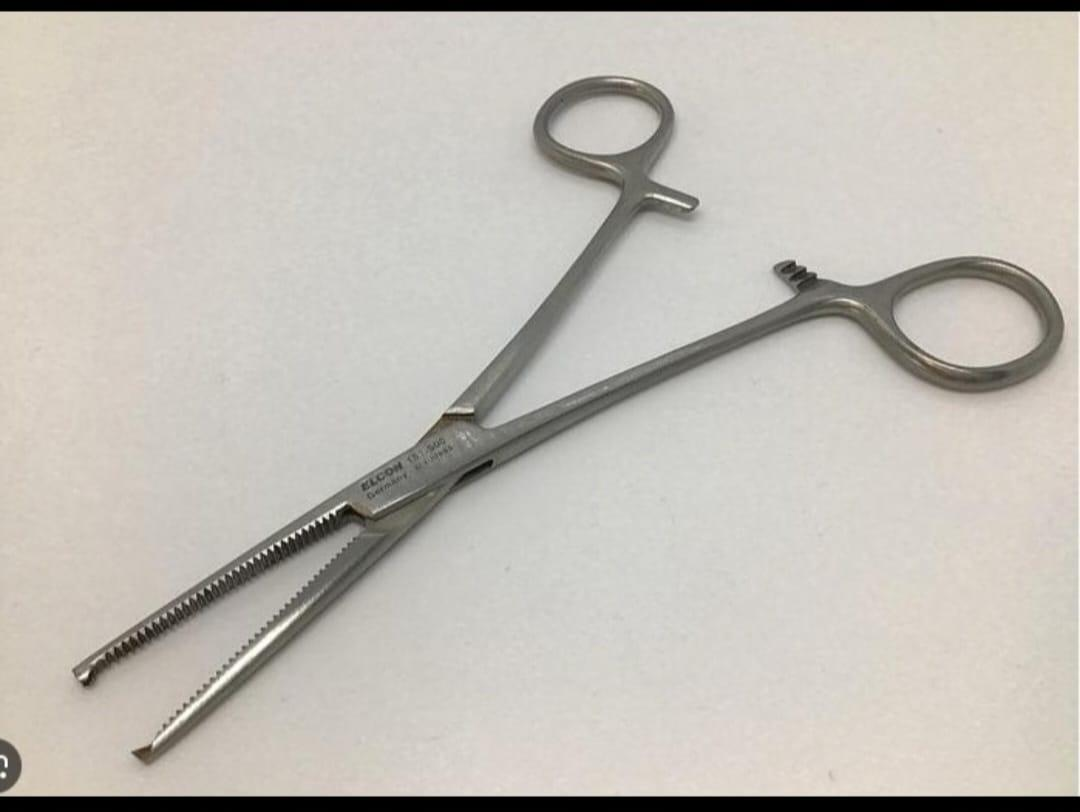Kocher Forceps: (64, 61, 1068, 769)
